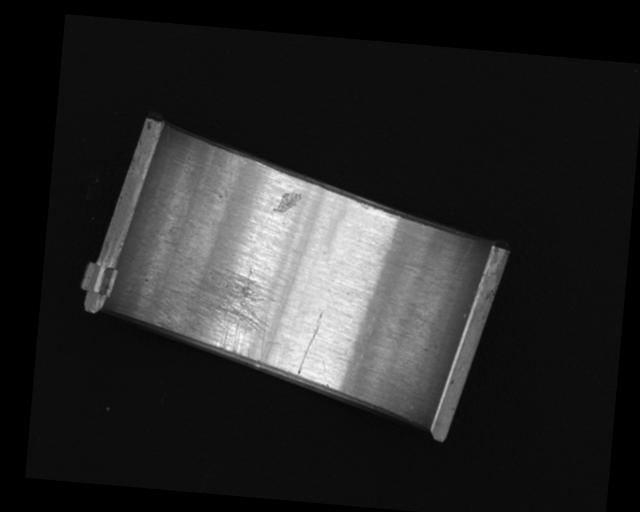bruise: (272, 190, 302, 214)
nick: (418, 235, 474, 332), (296, 311, 324, 377)
scratch: (150, 258, 279, 367)
